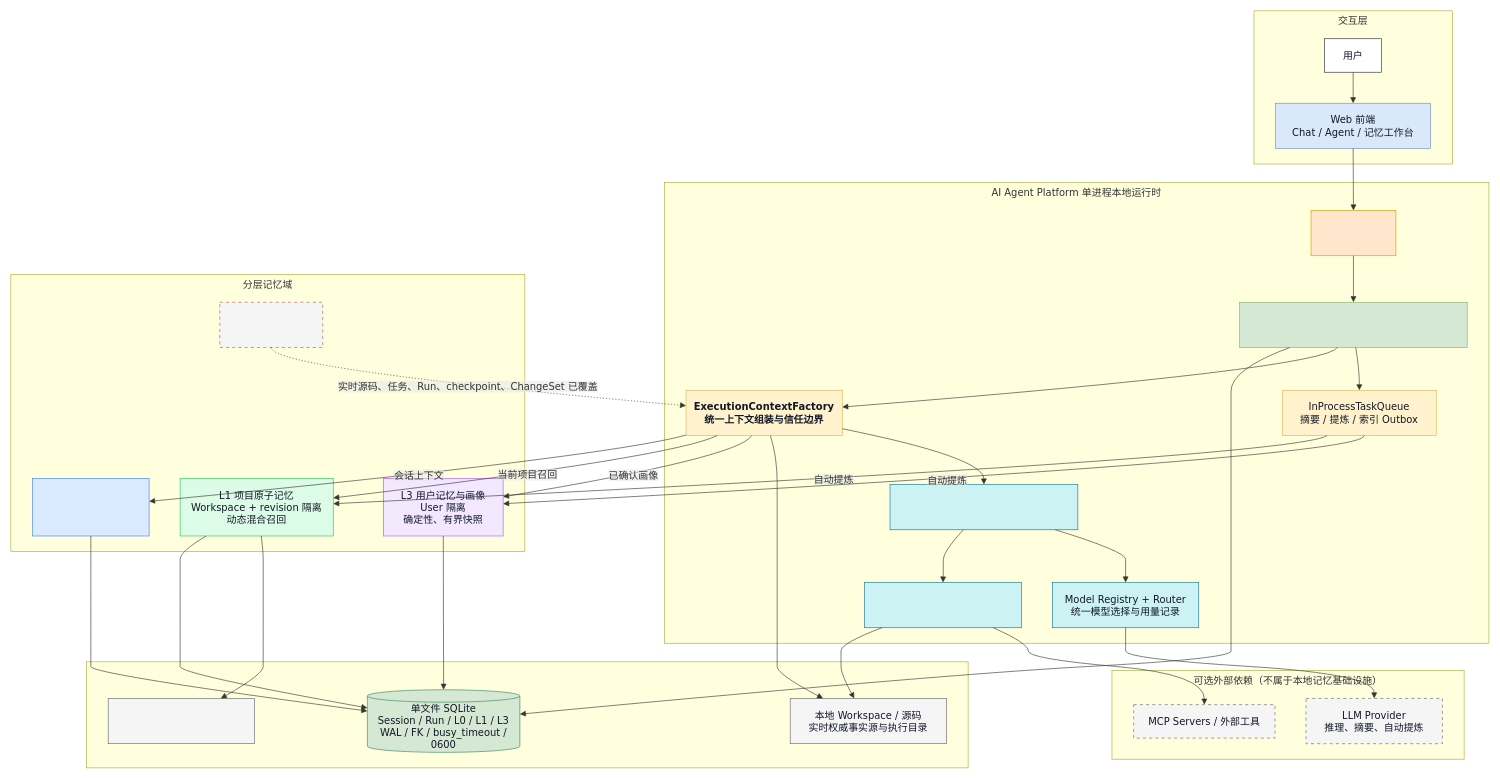
The diagram is 1500 pixels wide and 779 high, and some of its shapes have lost their labels. Each missing label, with the box of its shape:
CodingAgentRuntime / LangGraph 计划、工具调用、审批、恢复: (889, 484, 1078, 530)
FastAPI REST + SSE: (1310, 210, 1396, 256)
L0 对话记忆 摘要 + 最近消息 跨会话只按需搜索: (32, 478, 149, 536)
L2 Scene Block 明确不实现: (219, 302, 323, 348)
Tool Registry / Skills / MCP 权限过滤后的工具池: (864, 582, 1021, 628)
应用服务 Session / Query / Workspace / Memory API: (1239, 302, 1467, 348)
本地 Hashing Embedding float32 BLOB + 余弦: (108, 698, 255, 744)
本地事实源与持久化: (86, 661, 968, 768)
